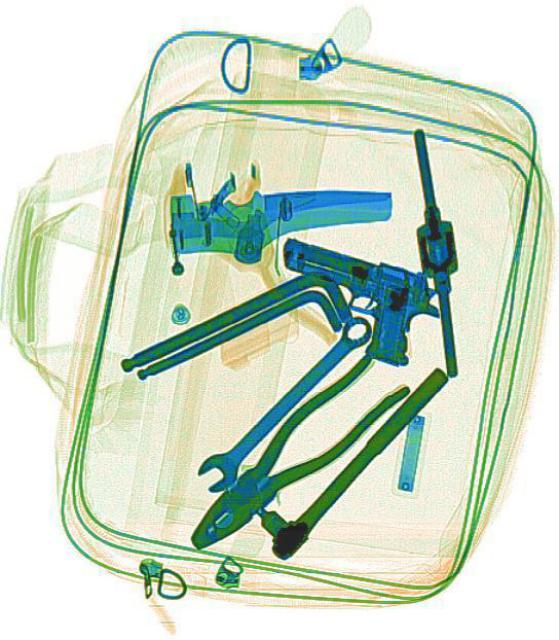Gun: (260, 232, 447, 374)
Pliers: (173, 339, 410, 566)
Wrench: (189, 306, 380, 498)
